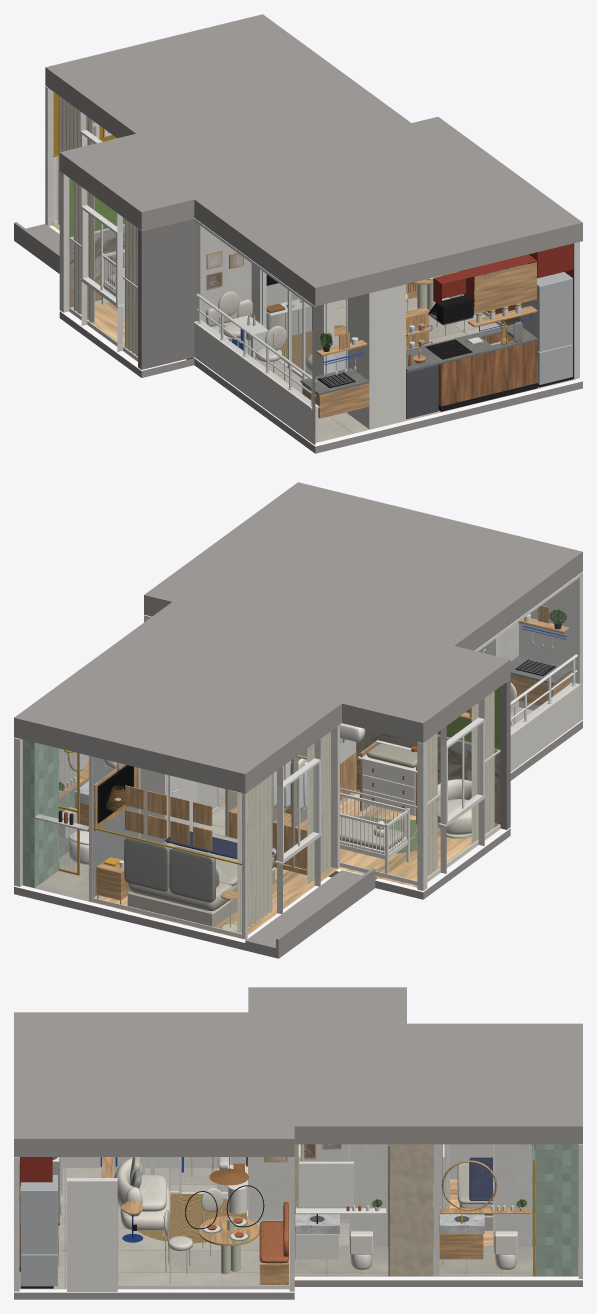
File: apto-final05.glb
3 renders of one model, top to bottom at view 1: azimuth 30°, elevation 25°; view 2: azimuth 150°, elevation 25°; view 3: azimuth 270°, elevation 25°, orthographic. The views are drawn at different scales.
Visible parts, largest first — view 1: apto_ext, apto_mov, apto_arq, apto_vidro; view 2: apto_ext, apto_mov, apto_arq, apto_vidro, apto_folha; view 3: apto_ext, apto_mov, apto_arq, apto_vidro.
Part boxes in pixels (x1,y1,x2,y2): apto_ext: (14,14,582,453); apto_mov: (53,121,573,418); apto_arq: (45,86,579,445); apto_vidro: (290,264,526,378); apto_ext: (14,482,582,958); apto_mov: (23,605,572,930); apto_arq: (14,572,582,940); apto_vidro: (59,749,306,872); apto_folha: (59,609,566,811); apto_ext: (14,987,582,1299); apto_mov: (19,1144,578,1288); apto_arq: (14,1144,582,1291); apto_vidro: (141,1157,178,1191).
Bounding box in the file's own units: 6.18 × 3.05 × 9.79.
72 materials, 41 textured.
